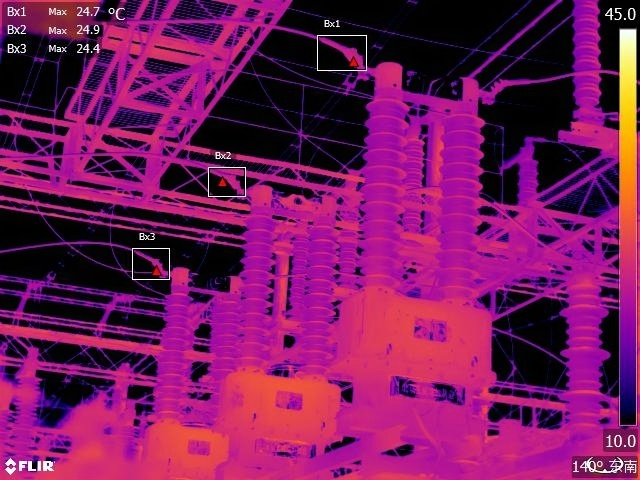post insulator: (431, 114, 490, 302), (358, 102, 413, 289), (556, 268, 608, 444), (232, 210, 275, 369), (300, 216, 338, 366), (151, 292, 194, 424), (562, 1, 606, 113), (206, 293, 243, 422)
switch: (365, 47, 483, 119), (239, 178, 344, 229), (167, 259, 243, 296)
